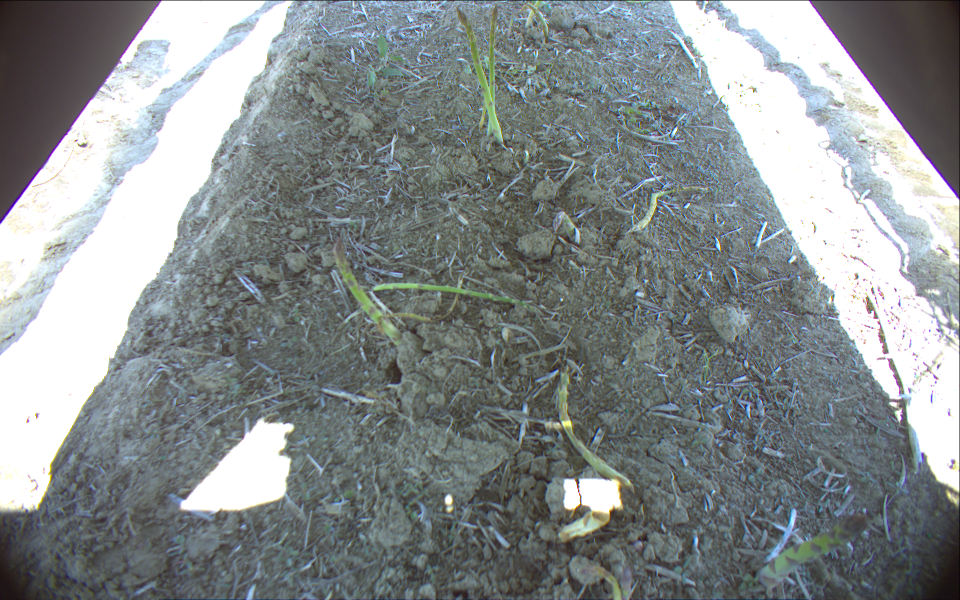aspa: (330, 237, 413, 350), (752, 514, 867, 590), (452, 6, 507, 148), (477, 5, 501, 133)
